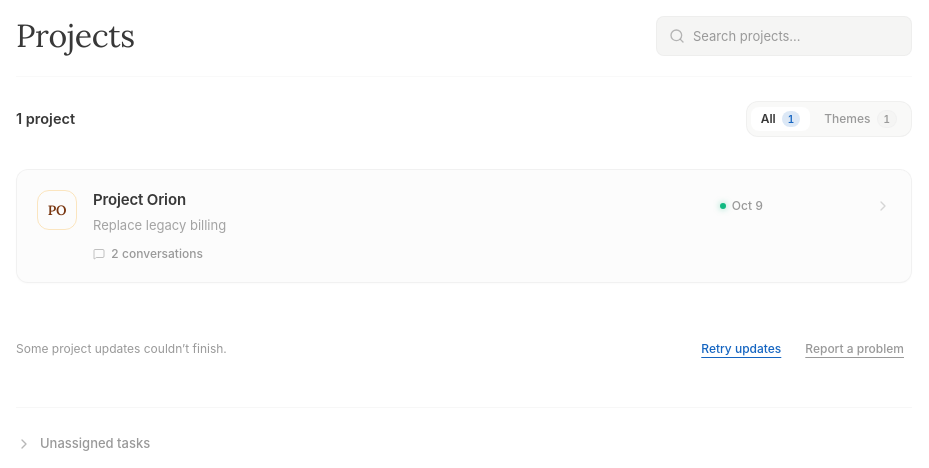
Test: ProjectsExecutionTab borderless portfolio and dossier routing › retries a failed portfolio synthesis only after an explicit action
Click the button "Retry updates".
click(741, 349)  # box [693, 337, 789, 361]
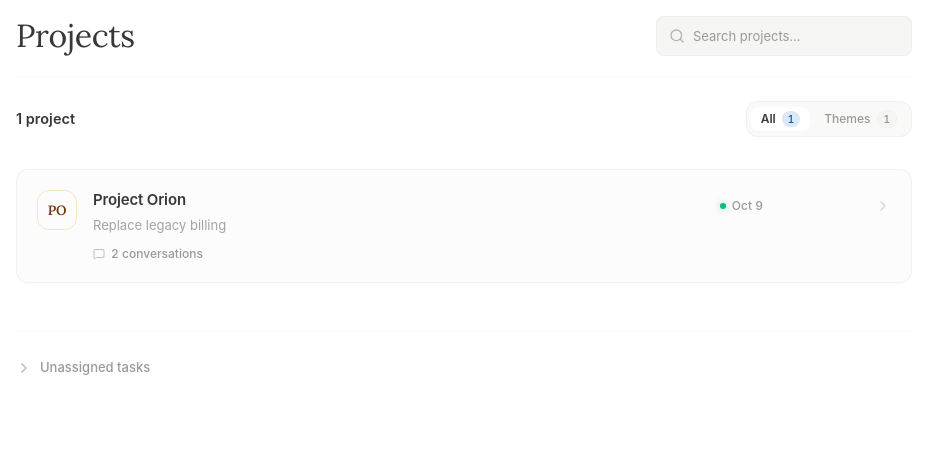
Check: the text "Report a problem" is gone
